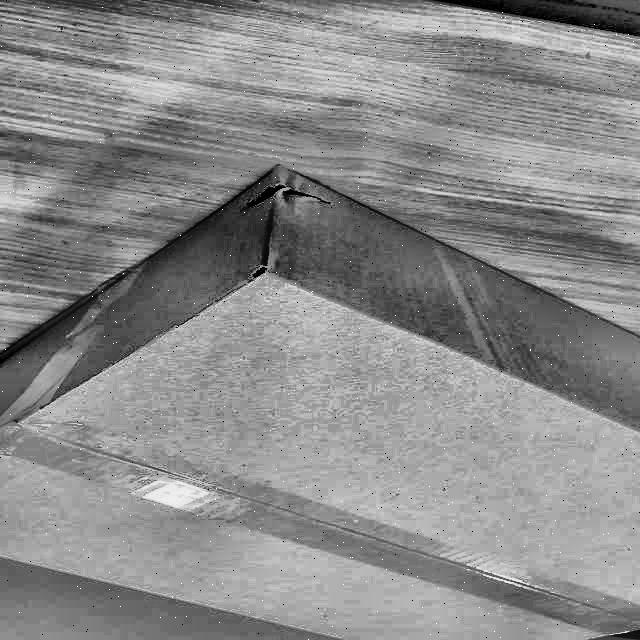box: (1, 147, 640, 640)
hole: (244, 181, 330, 217)
